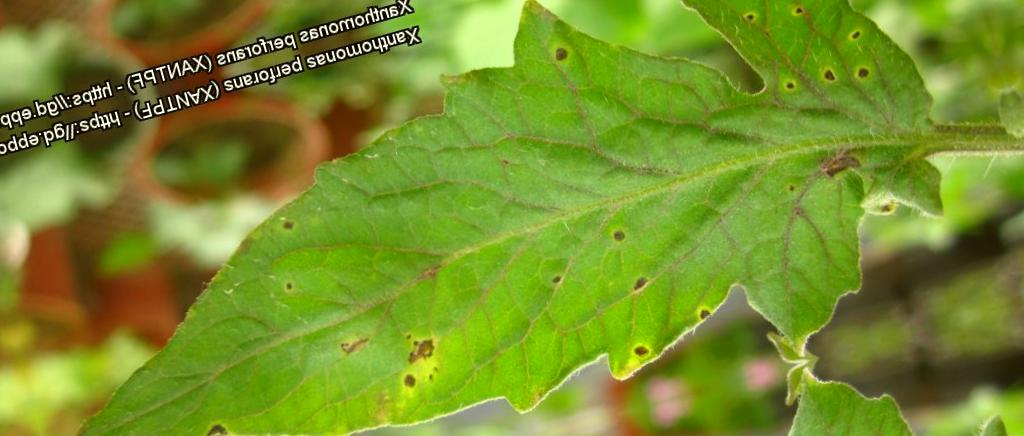Tomato leaf bacterial spot: (0, 0, 988, 436)
